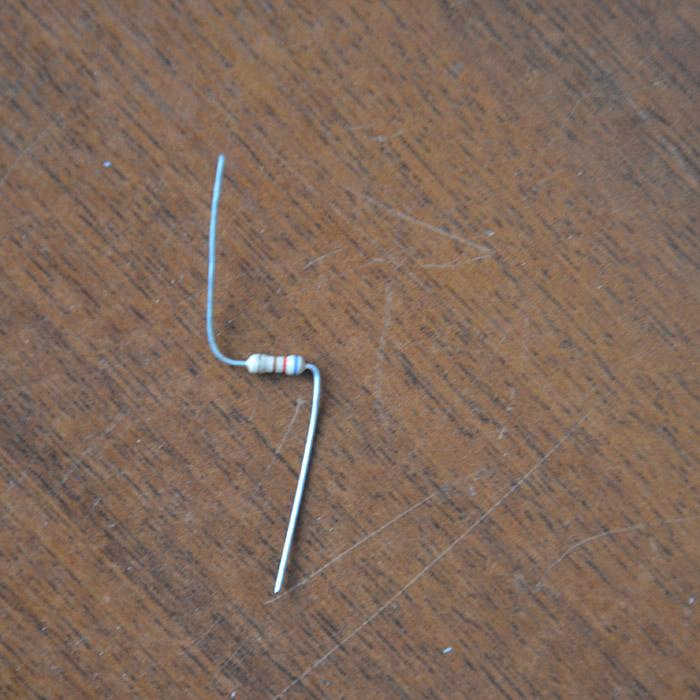resistor: (245, 352, 305, 376)
